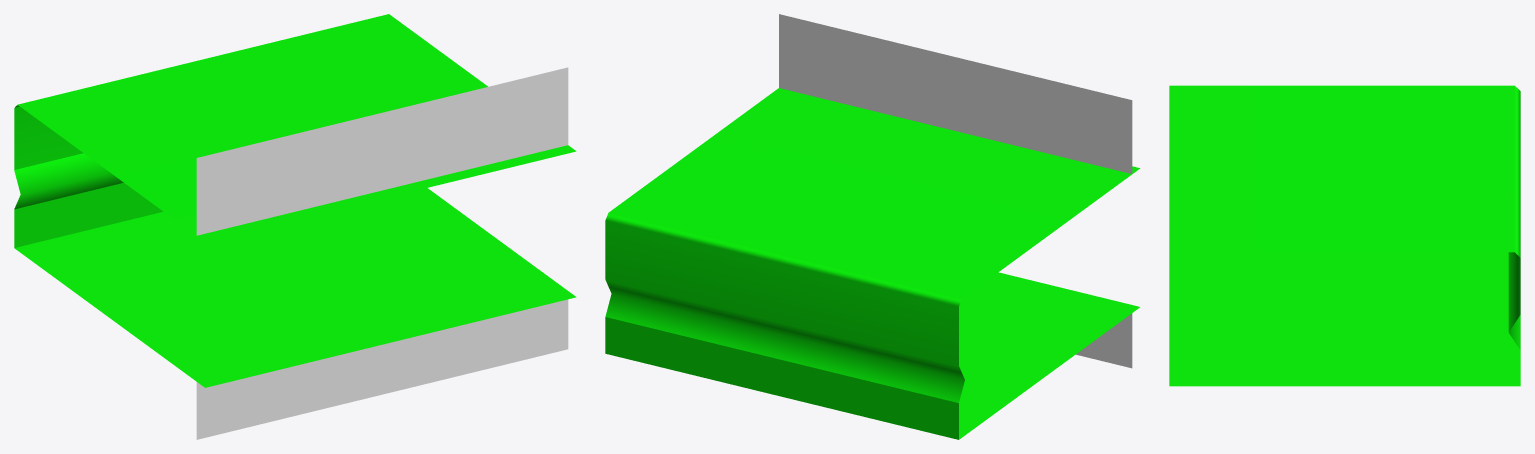
The model's file is Straight.fbx.
3 views of the same model, side by side, from view 1: azimuth 30°, elevation 25°; view 2: azimuth 150°, elevation 25°; view 3: azimuth 270°, elevation 25° (orthographic). The views are drawn at different scales.
Parts seen in each view (by area): view 1: Straight_1; view 2: Straight_1; view 3: Straight_1.
Boxes of the visible parts, x1=… form: Straight_1: x1=14, y1=14, x2=576, y2=439; Straight_1: x1=605, y1=14, x2=1139, y2=439; Straight_1: x1=1169, y1=85, x2=1520, y2=386.
Size of the model in its own units: 200 by 145 by 178.
